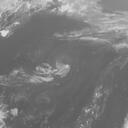cyclone: (33, 55, 71, 86)
